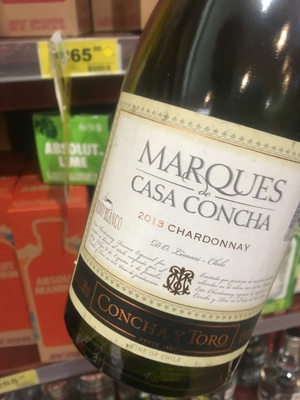marques de casa concha chardonnay: (65, 45, 297, 385)
